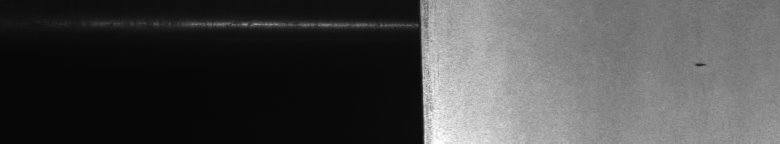fi: (694, 60, 707, 72)
